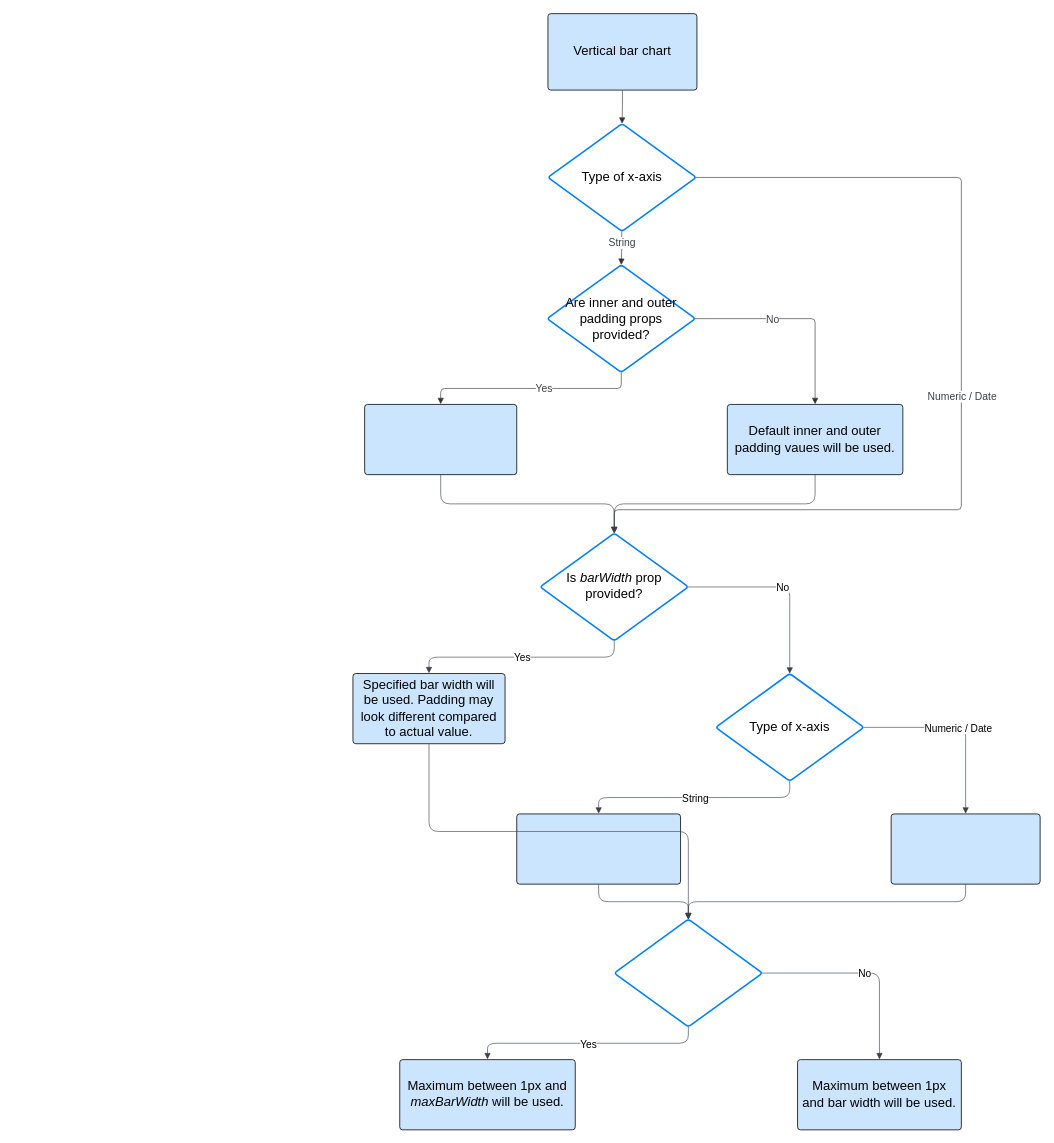
The diagram is 1054 pixels wide and 1143 high, and some of its shapes have lost their labels. Each missing label, with the centre of its shape:
"Bar width will be calculated from padding values." belongs at (598,848).
"Default bar width of 16px will be used." belongs at (965,848).
"Is maxBarWidth prop provided and is it less than bar width?" belongs at (688,972).
"Overrides the default inner and outer padding." belongs at (440,439).
